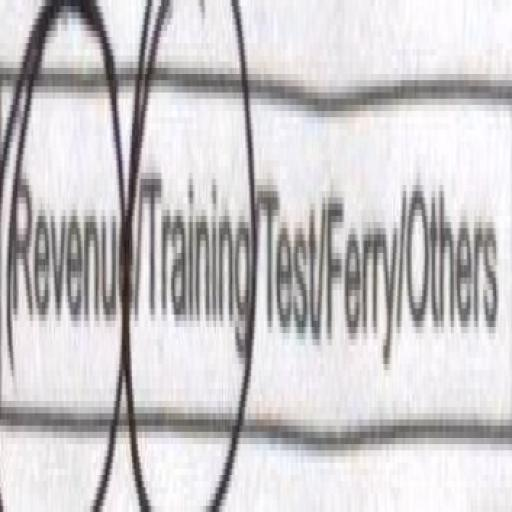check: (125, 0, 254, 512), (0, 0, 122, 512)
